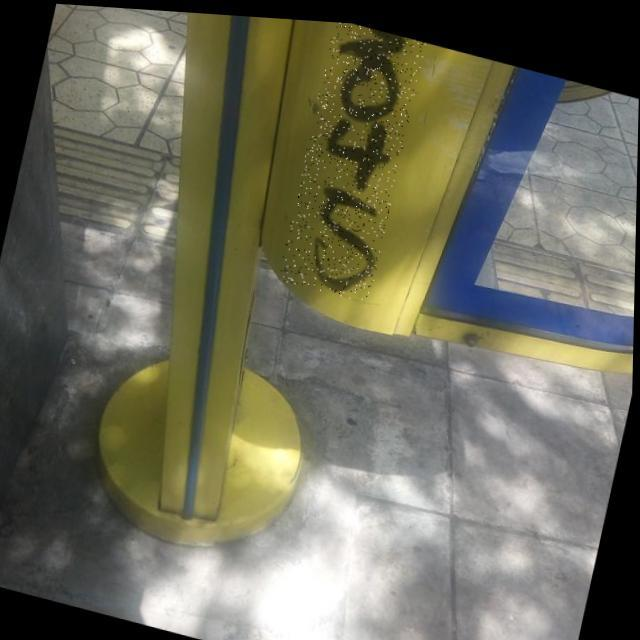-: (278, 15, 426, 301)
